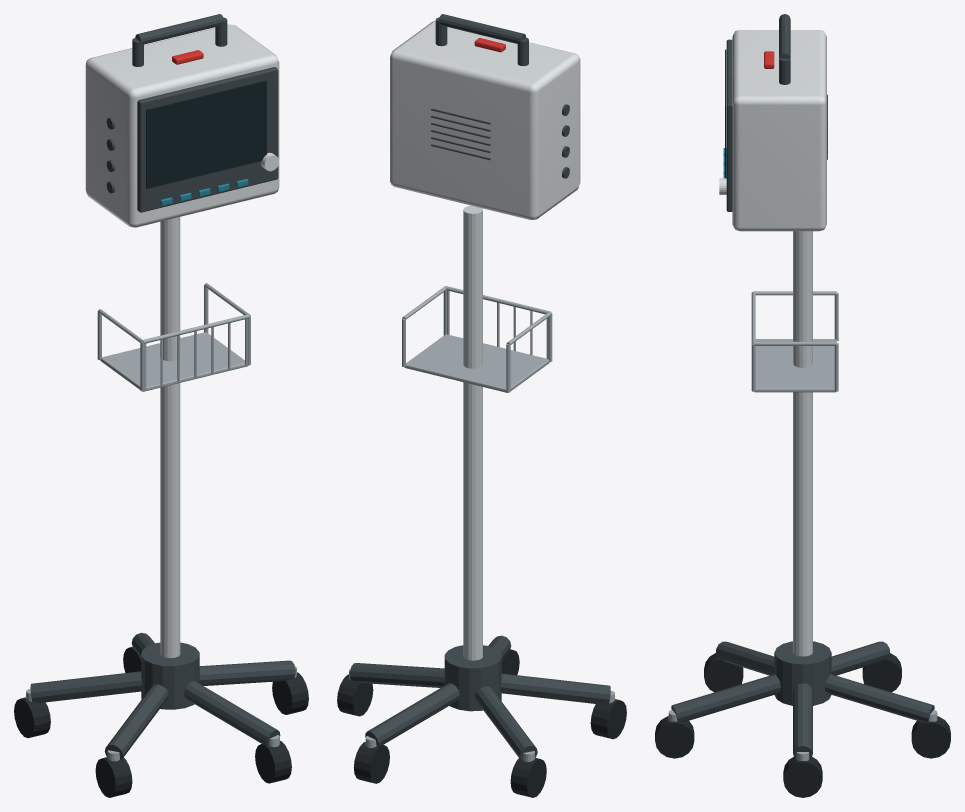
File: vital_signs_monitor.fbx
The picture shows the model from 3 angles, left to right: view 1: azimuth 30°, elevation 25°; view 2: azimuth 150°, elevation 25°; view 3: azimuth 270°, elevation 25°; orthographic projection. The views are drawn at different scales.
Visible parts, largest first — view 1: EQ_vital_signs_monitor_Body, EQ_vital_signs_monitor_Display, EQ_vital_signs_monitor_Upright, EQ_vital_signs_monitor_Bezel, EQ_vital_signs_monitor_BasketFloor, EQ_vital_signs_monitor_Hub, EQ_vital_signs_monitor_Leg2_0, EQ_vital_signs_monitor_Leg4_0, EQ_vital_signs_monitor_Leg0_0, EQ_vital_signs_monitor_Leg3_0, EQ_vital_signs_monitor_Caster3, EQ_vital_signs_monitor_Caster4 (+4 smaller); view 2: EQ_vital_signs_monitor_Body, EQ_vital_signs_monitor_Upright, EQ_vital_signs_monitor_BasketFloor, EQ_vital_signs_monitor_Hub, EQ_vital_signs_monitor_Leg3_0, EQ_vital_signs_monitor_Leg1_0, EQ_vital_signs_monitor_Leg0_0, EQ_vital_signs_monitor_Leg2_0, EQ_vital_signs_monitor_Caster2, EQ_vital_signs_monitor_Caster1, EQ_vital_signs_monitor_Caster3, EQ_vital_signs_monitor_Caster0 (+1 smaller); view 3: EQ_vital_signs_monitor_Body, EQ_vital_signs_monitor_Upright, EQ_vital_signs_monitor_BasketFloor, EQ_vital_signs_monitor_Hub, EQ_vital_signs_monitor_Leg1_0, EQ_vital_signs_monitor_Leg4_0, EQ_vital_signs_monitor_Leg0_0, EQ_vital_signs_monitor_Caster0, EQ_vital_signs_monitor_Caster1, EQ_vital_signs_monitor_Caster4, EQ_vital_signs_monitor_Bezel, EQ_vital_signs_monitor_Leg2_0 (+4 smaller).
Boxes of the visible parts, x1,y1,x2,y2 form: EQ_vital_signs_monitor_Body: (85,24,279,227); EQ_vital_signs_monitor_Display: (146,80,266,188); EQ_vital_signs_monitor_Upright: (160,217,180,658); EQ_vital_signs_monitor_Bezel: (137,67,278,212); EQ_vital_signs_monitor_BasketFloor: (100,332,248,391); EQ_vital_signs_monitor_Hub: (141,642,199,709); EQ_vital_signs_monitor_Leg2_0: (30,671,142,702); EQ_vital_signs_monitor_Leg4_0: (184,681,280,745); EQ_vital_signs_monitor_Leg0_0: (199,660,295,685); EQ_vital_signs_monitor_Leg3_0: (104,684,168,759); EQ_vital_signs_monitor_Caster3: (95,757,132,797); EQ_vital_signs_monitor_Caster4: (255,741,291,783); EQ_vital_signs_monitor_Body: (390,21,580,219); EQ_vital_signs_monitor_Upright: (463,205,482,660); EQ_vital_signs_monitor_BasketFloor: (404,334,549,392); EQ_vital_signs_monitor_Hub: (444,645,501,711); EQ_vital_signs_monitor_Leg3_0: (500,673,610,704); EQ_vital_signs_monitor_Leg1_0: (365,683,459,746); EQ_vital_signs_monitor_Leg0_0: (350,663,444,687); EQ_vital_signs_monitor_Leg2_0: (475,686,537,760); EQ_vital_signs_monitor_Caster2: (510,758,546,797); EQ_vital_signs_monitor_Caster1: (353,742,389,783); EQ_vital_signs_monitor_Caster3: (590,699,626,739); EQ_vital_signs_monitor_Caster0: (337,674,373,716); EQ_vital_signs_monitor_Body: (732,30,826,231); EQ_vital_signs_monitor_Upright: (793,231,812,656); EQ_vital_signs_monitor_BasketFloor: (754,339,836,392); EQ_vital_signs_monitor_Hub: (774,641,831,705); EQ_vital_signs_monitor_Leg1_0: (825,674,934,722); EQ_vital_signs_monitor_Leg4_0: (671,674,780,722); EQ_vital_signs_monitor_Leg0_0: (793,683,812,758); EQ_vital_signs_monitor_Caster0: (783,757,822,797); EQ_vital_signs_monitor_Caster1: (911,716,950,758); EQ_vital_signs_monitor_Caster4: (655,716,694,758); EQ_vital_signs_monitor_Bezel: (726,39,732,211); EQ_vital_signs_monitor_Leg2_0: (831,641,890,675).
Bounding box in the file's own units: 0.5063 × 1.5 × 0.5705.
